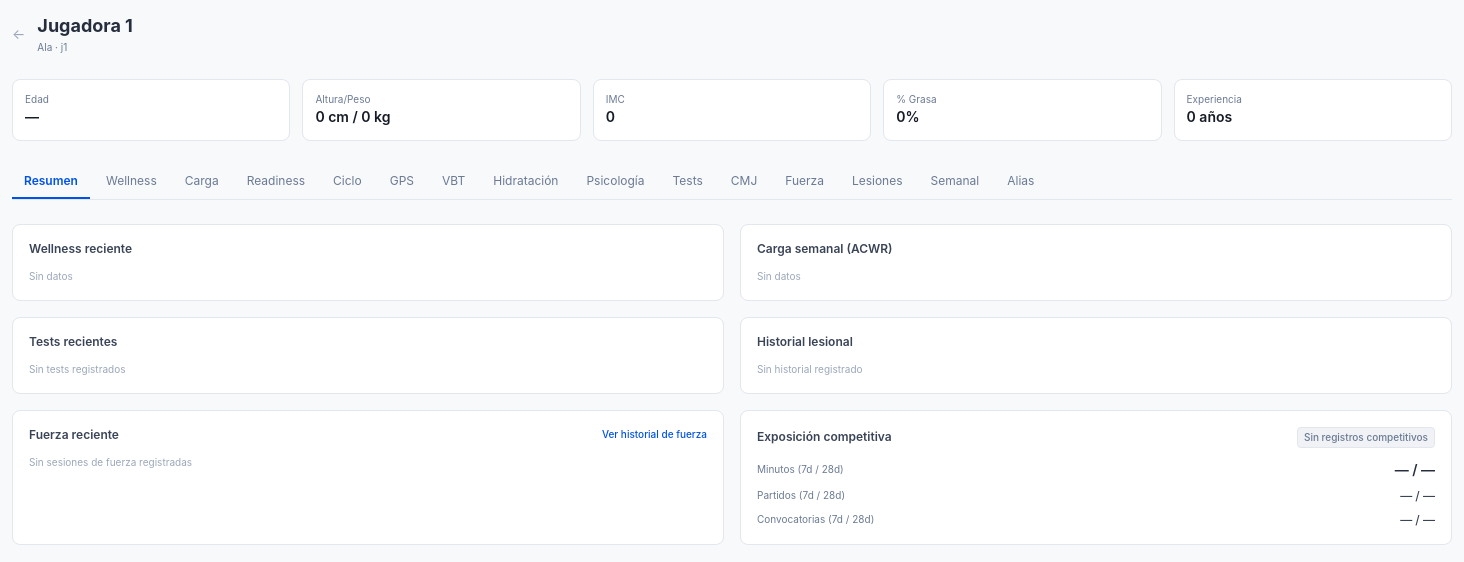
Test: Bloque 2: UI CMJ › Perfil con varios protocolos no mezcla resultados
Click the button "CMJ". click: (744, 182)
box: [719,164,769,198]
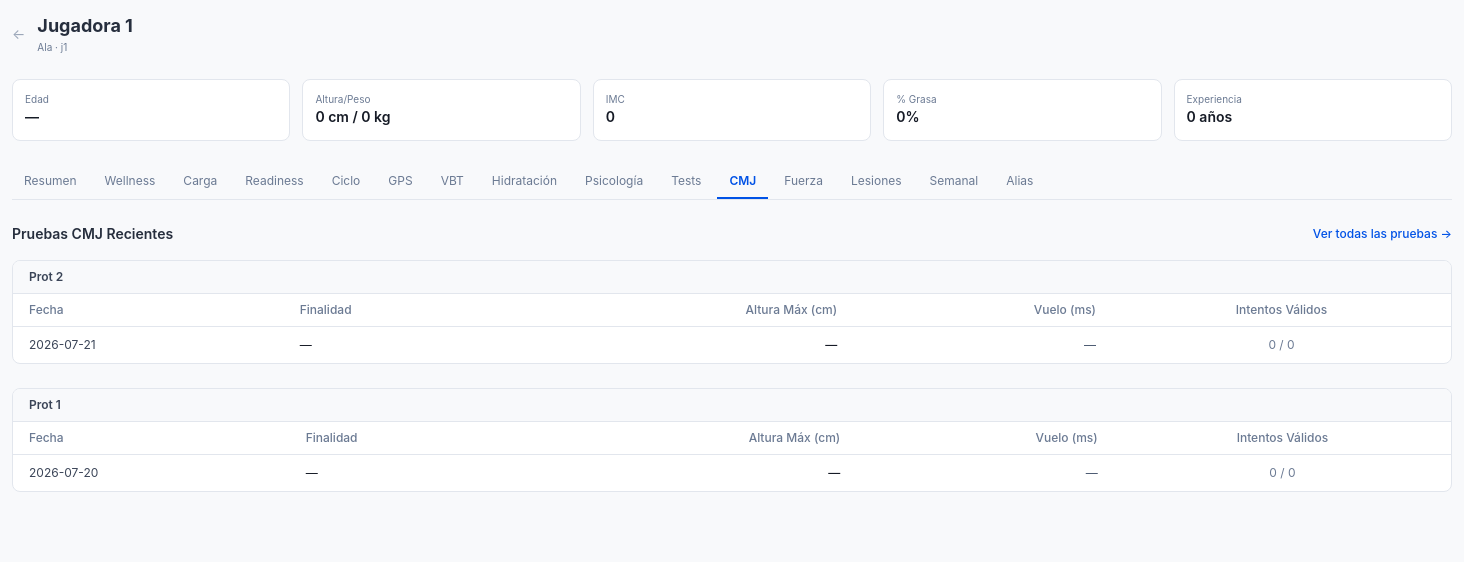
Result: the heading "Prot 1" is shown at [29,396,61,412]
Result: the heading "Prot 2" is shown at [29,268,63,284]
